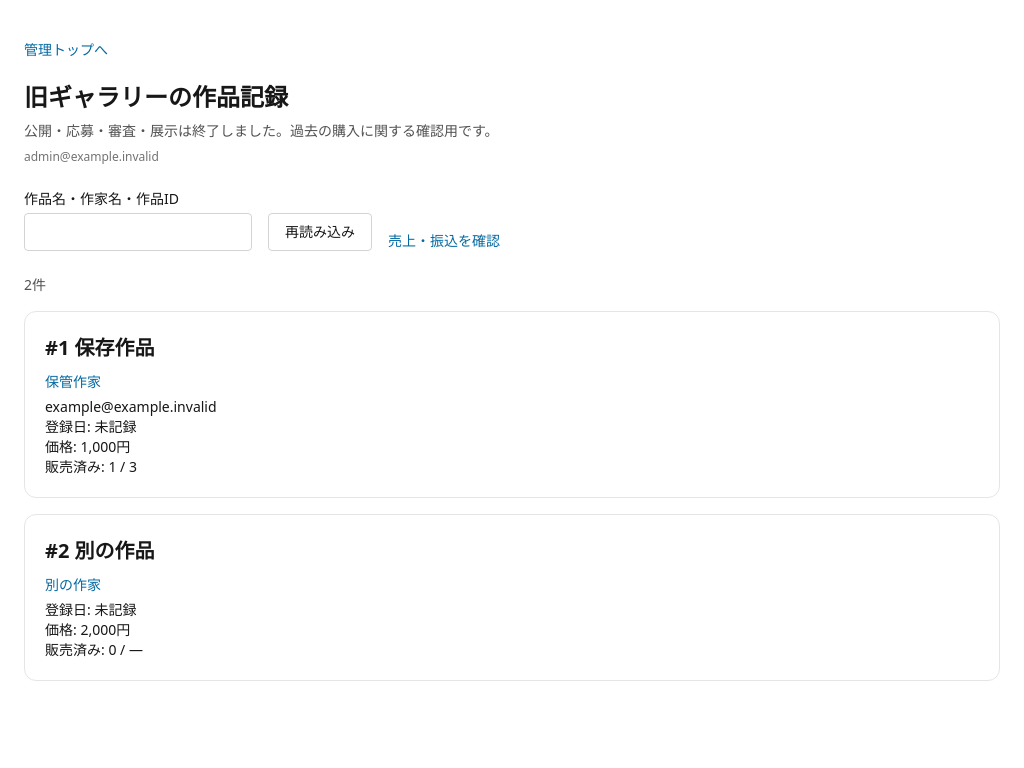
Test: retired gallery support reader › keeps searchable records and support navigation without exhibition write controls
Expected: the heading "#1 保存作品" is shown, [45,334,155,360]
Expected: the text "販売済み: 1 / 3" is shown, [45,456,137,476]
Type "保存作品" into the search field at coordinates (138, 232), box [24,212,252,250]
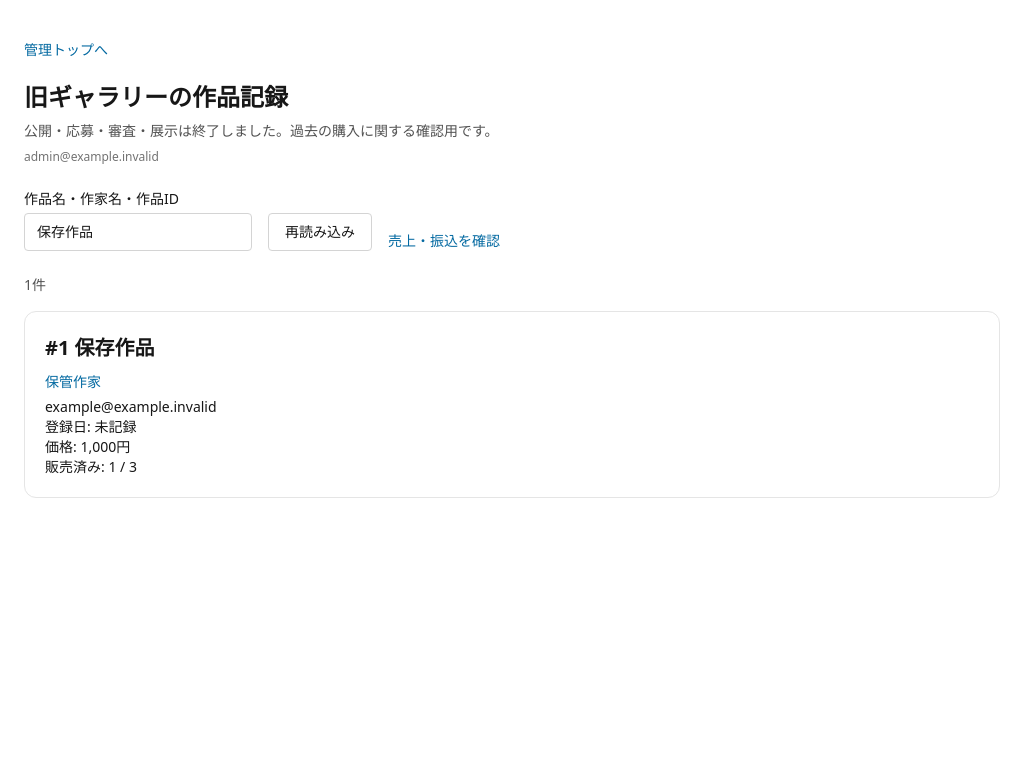
Expected: the heading "#2 別の作品" is gone
